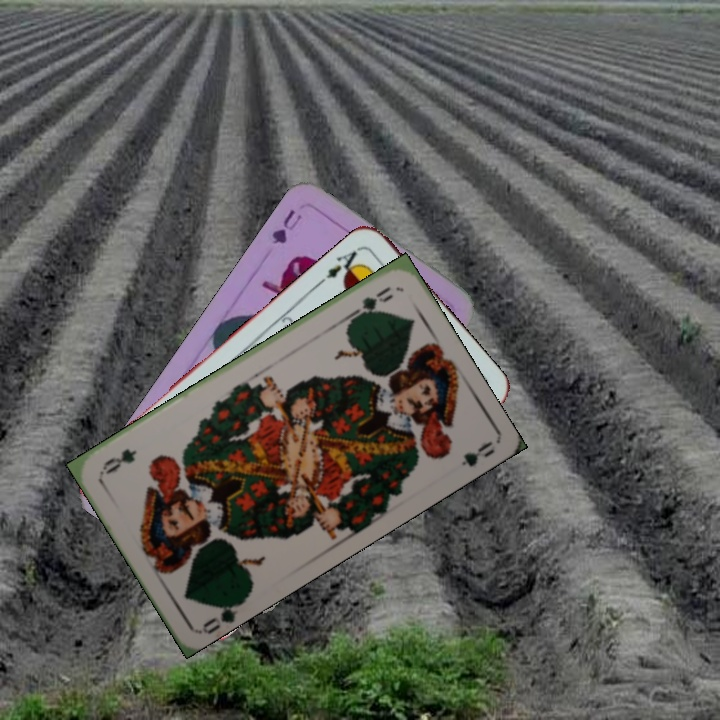EA: (322, 243, 365, 284)
GO: (198, 594, 249, 636), (344, 282, 396, 323)
GU: (267, 205, 305, 247)
